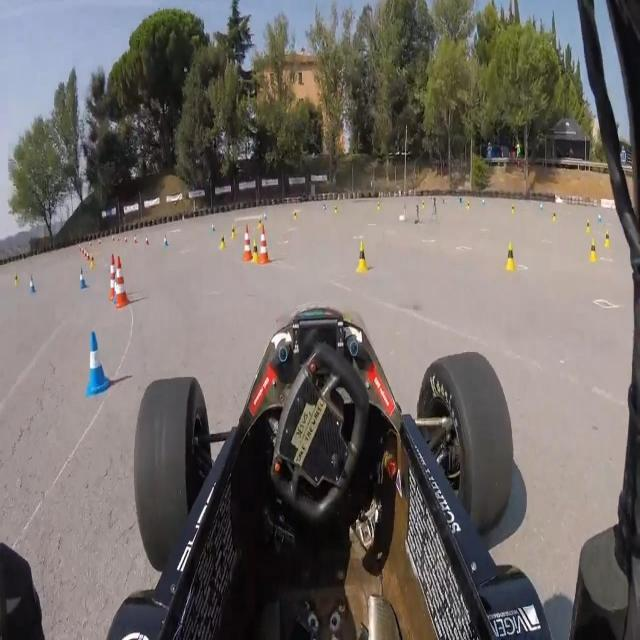blue_cone: (80, 329, 108, 395), (25, 271, 38, 295), (78, 262, 88, 287)
orange_cone: (115, 257, 128, 308), (109, 255, 119, 304), (241, 222, 252, 262), (259, 224, 269, 265)
yellow_cone: (502, 241, 519, 272), (355, 241, 369, 276), (251, 240, 261, 265), (588, 235, 597, 262), (604, 228, 612, 250)
